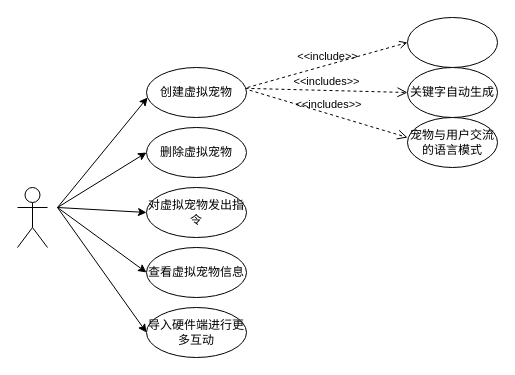
The diagram is 515 pixels wide and 375 high, and some of its shapes have lost their labels. The shapes that lost their labels are listed below. From the top down, each one's centre as x and y in pixels, then its label:
At point 452,42: "选择喜好特点".
At point 32,217: "用户".
